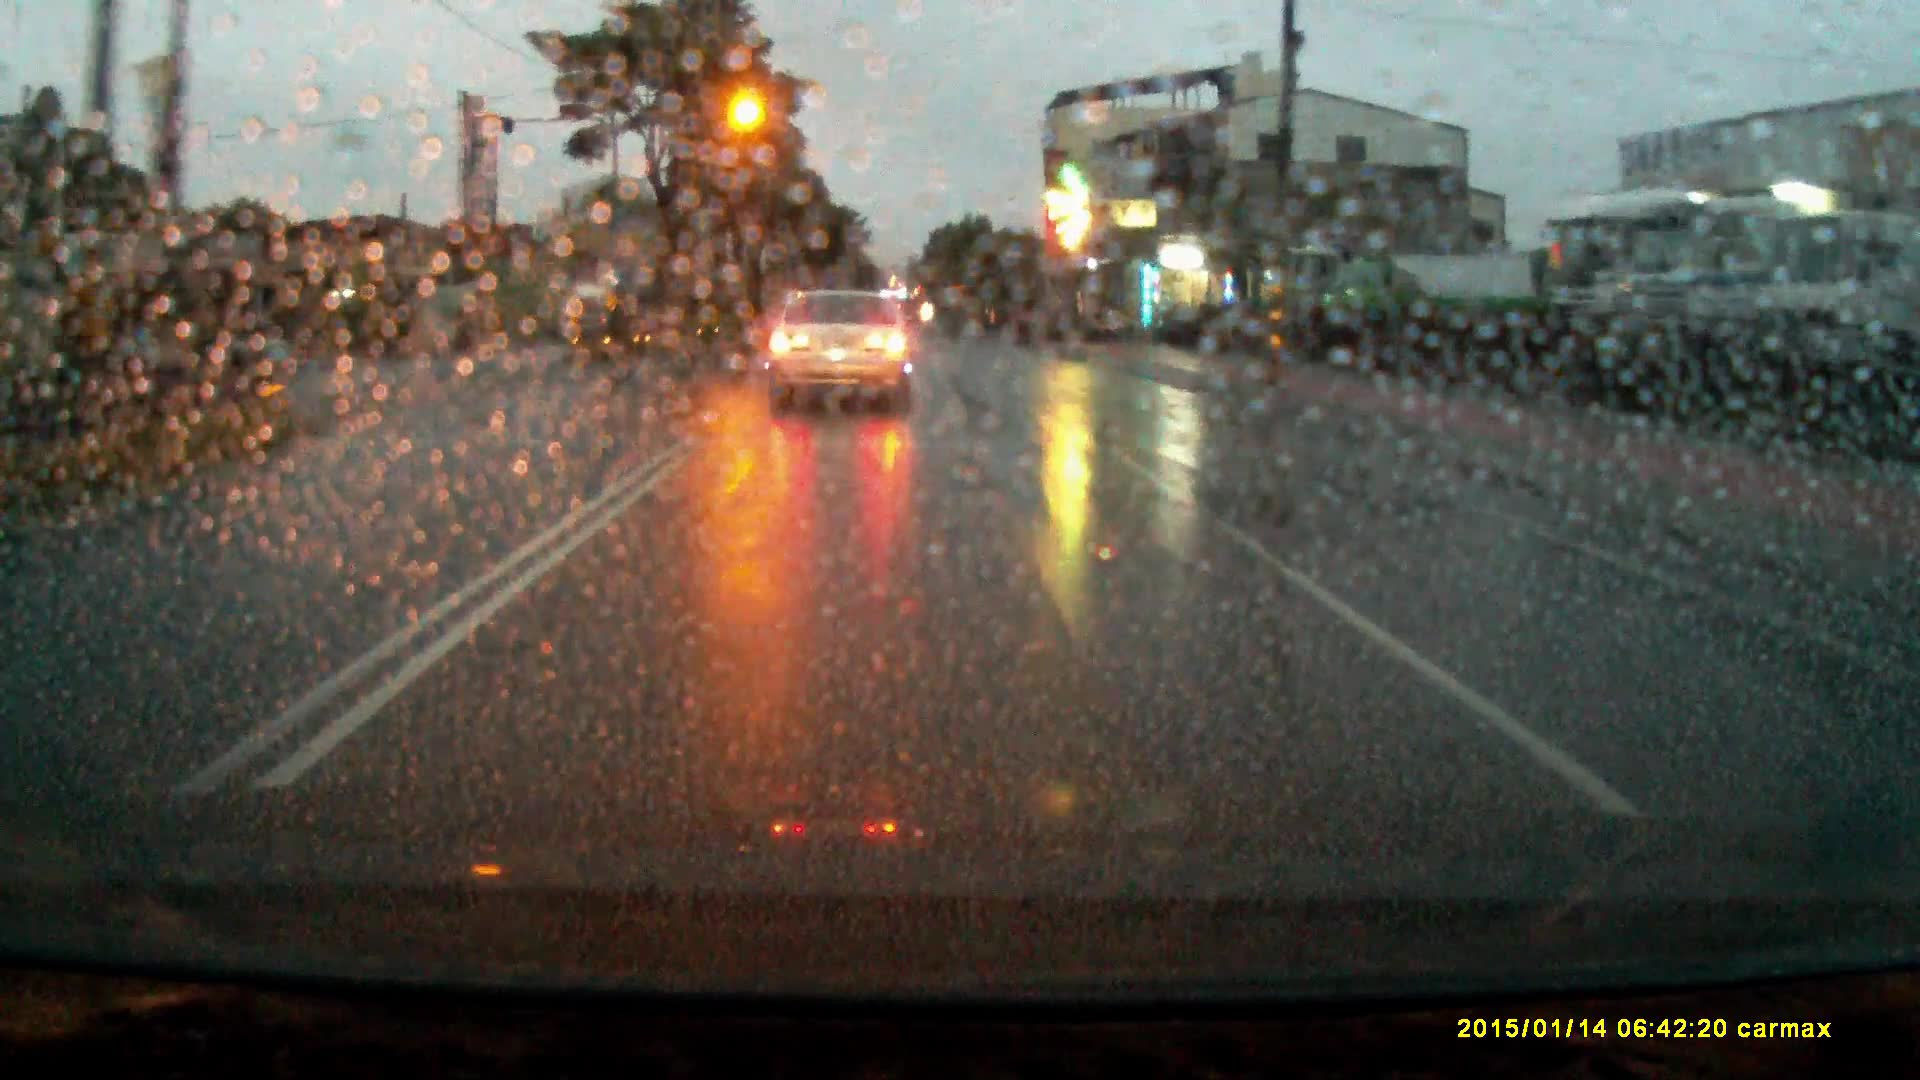vehicle: (1753, 208, 1917, 434), (1545, 185, 1716, 396), (767, 289, 920, 414), (1328, 251, 1523, 342), (1263, 240, 1352, 340), (564, 277, 624, 334)
